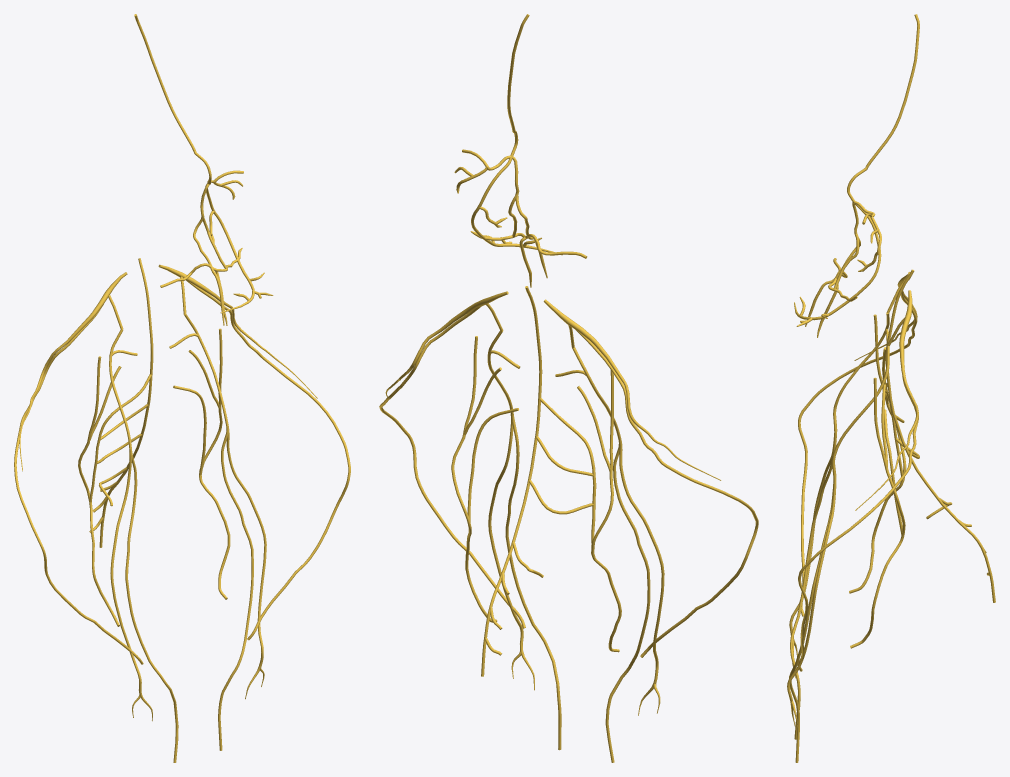
File: nervous_peripheral.abdomen.glb
3 views of the same model, side by side, from view 1: azimuth 30°, elevation 25°; view 2: azimuth 150°, elevation 25°; view 3: azimuth 270°, elevation 25° (orthographic). The views are drawn at different scales.
Visible parts, largest first — view 1: posterior_vagal_trunk, cauda_equina, right_obturator_nerve, left_ilio_inguinal_nerve, left_obturator_nerve, right_ilio_inguinal_nerve, left_genital_branch_of_genitofemoral_nerve, right_genital_branch_of_genitofemoral_nerve, right_femoral_branch_of_genitofemoral_nerve, right_iliohypogastric_nerve, left_femoral_branch_of_genitofemoral_nerve, left_iliohypogastric_nerve; view 2: posterior_vagal_trunk, cauda_equina, right_obturator_nerve, left_obturator_nerve, right_ilio_inguinal_nerve, left_ilio_inguinal_nerve, left_genital_branch_of_genitofemoral_nerve, right_genital_branch_of_genitofemoral_nerve, right_iliohypogastric_nerve, right_femoral_branch_of_genitofemoral_nerve, left_femoral_branch_of_genitofemoral_nerve, left_iliohypogastric_nerve; view 3: posterior_vagal_trunk, left_obturator_nerve, cauda_equina, right_obturator_nerve, right_ilio_inguinal_nerve, left_ilio_inguinal_nerve, right_genital_branch_of_genitofemoral_nerve, left_femoral_branch_of_genitofemoral_nerve, left_iliohypogastric_nerve, left_genital_branch_of_genitofemoral_nerve, right_femoral_branch_of_genitofemoral_nerve, left_genitofemoral_nerve (+1 smaller).
Boxes of the visible parts, x1,y1,x2,y2 form: posterior_vagal_trunk: (134, 14, 273, 325); cauda_equina: (89, 258, 153, 547); right_obturator_nerve: (78, 356, 136, 626); left_ilio_inguinal_nerve: (186, 280, 350, 640); left_obturator_nerve: (173, 328, 230, 599); right_ilio_inguinal_nerve: (14, 304, 143, 664); left_genital_branch_of_genitofemoral_nerve: (218, 426, 253, 750); right_genital_branch_of_genitofemoral_nerve: (125, 448, 178, 762); right_femoral_branch_of_genitofemoral_nerve: (110, 448, 152, 721); right_iliohypogastric_nerve: (19, 272, 127, 471); left_femoral_branch_of_genitofemoral_nerve: (226, 429, 266, 699); left_iliohypogastric_nerve: (158, 264, 317, 398); posterior_vagal_trunk: (454, 14, 587, 287); cauda_equina: (481, 286, 593, 676); right_obturator_nerve: (560, 370, 621, 652); left_obturator_nerve: (451, 336, 518, 622); right_ilio_inguinal_nerve: (576, 330, 758, 657); left_ilio_inguinal_nerve: (379, 306, 525, 628); left_genital_branch_of_genitofemoral_nerve: (505, 414, 561, 750); right_genital_branch_of_genitofemoral_nerve: (605, 443, 650, 762); right_iliohypogastric_nerve: (543, 299, 721, 480); right_femoral_branch_of_genitofemoral_nerve: (618, 440, 664, 715); left_femoral_branch_of_genitofemoral_nerve: (488, 414, 534, 690); left_iliohypogastric_nerve: (385, 291, 508, 397); posterior_vagal_trunk: (794, 14, 919, 337); left_obturator_nerve: (850, 377, 905, 648); cauda_equina: (885, 269, 995, 602); right_obturator_nerve: (849, 314, 906, 593); right_ilio_inguinal_nerve: (798, 291, 917, 616); left_ilio_inguinal_nerve: (797, 338, 918, 671); right_genital_branch_of_genitofemoral_nerve: (790, 405, 836, 739); left_femoral_branch_of_genitofemoral_nerve: (787, 455, 836, 727); left_iliohypogastric_nerve: (855, 290, 918, 510); left_genital_branch_of_genitofemoral_nerve: (789, 455, 836, 762); right_femoral_branch_of_genitofemoral_nerve: (789, 406, 837, 678); left_genitofemoral_nerve: (833, 345, 889, 455).
Bounding box in the file's own units: 0.2629 × 0.5571 × 0.1436.
